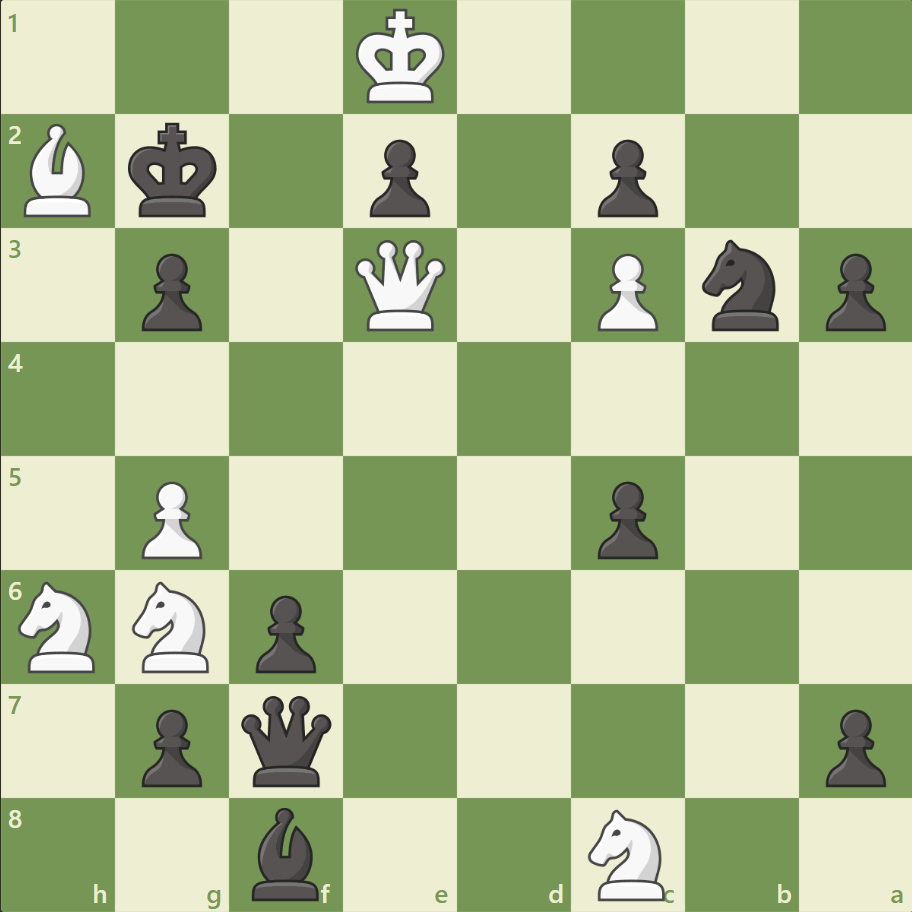B: (17, 120, 101, 222)
K: (351, 4, 451, 112)
N: (124, 575, 222, 677), (579, 802, 676, 904), (11, 575, 108, 677)
P: (133, 473, 208, 564), (588, 246, 662, 337)
Q: (351, 236, 450, 335)
b: (244, 801, 328, 904)
k: (124, 117, 224, 225)
n: (692, 234, 789, 337)
p: (133, 700, 208, 791), (247, 586, 322, 677), (133, 246, 208, 337), (815, 700, 889, 791), (588, 473, 662, 564), (815, 246, 889, 337), (588, 132, 662, 223), (361, 132, 435, 223)
q: (237, 690, 336, 789)
